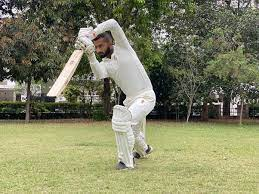bottom left: (44, 91, 51, 99)
bottom right: (54, 91, 61, 101)
top left: (71, 47, 78, 53)
top right: (80, 48, 87, 55)
